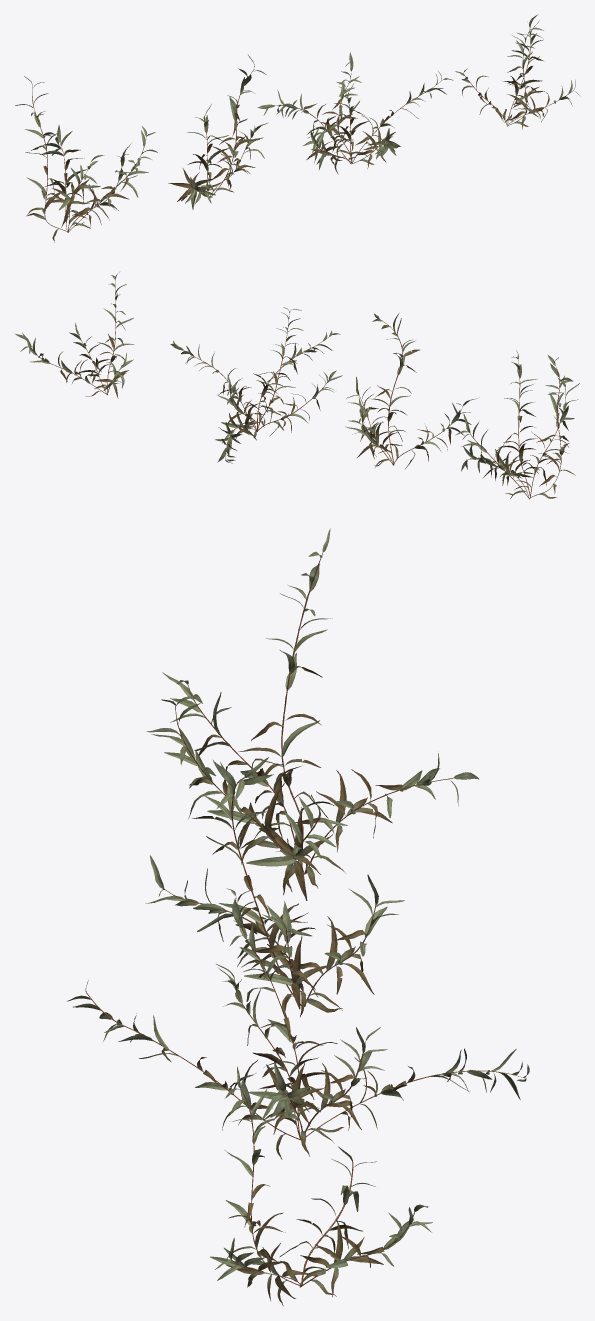
Rendered from shrub_02.glb.
3 renders of one model, top to bottom at view 1: azimuth 30°, elevation 25°; view 2: azimuth 150°, elevation 25°; view 3: azimuth 270°, elevation 25°, orthographic. The views are drawn at different scales.
Visible parts, largest first — view 1: shrub_02_a; view 2: shrub_02_a; view 3: shrub_02_a.
Part boxes in pixels (x1,y1,x2,y2): shrub_02_a: [15, 14, 580, 242]; shrub_02_a: [14, 272, 579, 499]; shrub_02_a: [67, 528, 529, 1305].
Bounding box in the file's own units: 6.05 × 1.7 × 2.29.
1 material, 1 textured.
